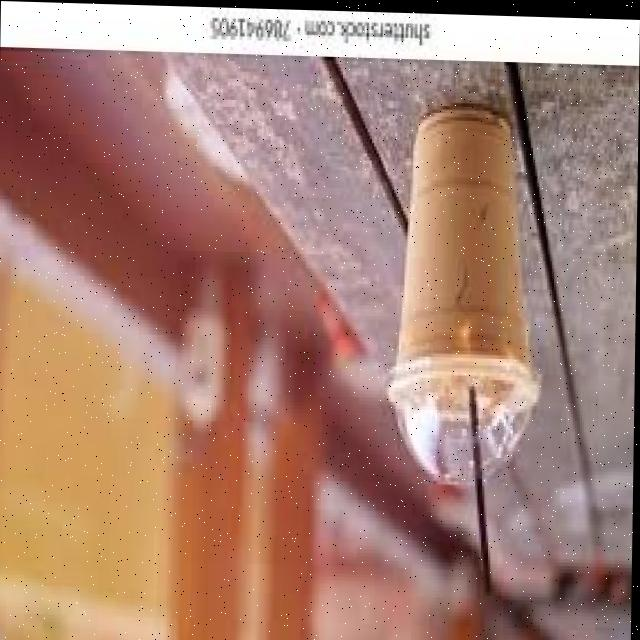cup: (398, 104, 529, 359)
